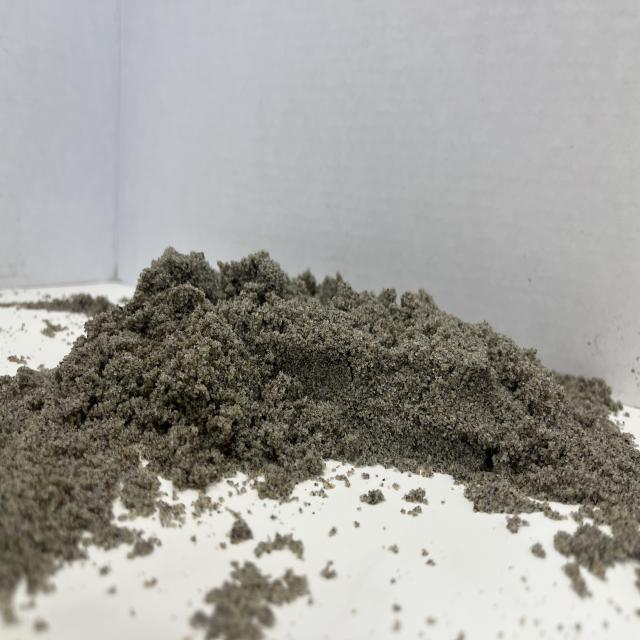sand: (14, 219, 638, 531)
